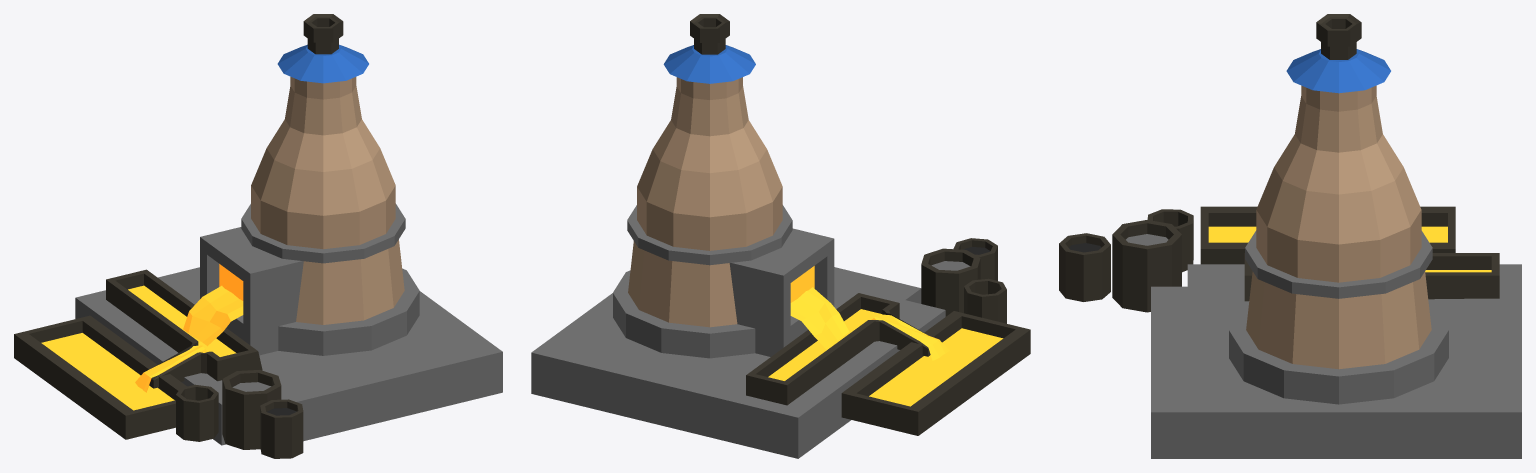
File: Smelter LvL 3.fbx
The picture shows the model from 3 angles, left to right: view 1: azimuth 30°, elevation 25°; view 2: azimuth 150°, elevation 25°; view 3: azimuth 270°, elevation 25°; orthographic projection. The views are drawn at different scales.
Parts seen in each view (by area): view 1: Smelter.002, Team Color Obj.005; view 2: Smelter.002, Team Color Obj.005; view 3: Smelter.002, Team Color Obj.005.
Boxes of the visible parts, bbox=[...] form: Smelter.002: bbox=[14, 14, 502, 458]; Team Color Obj.005: bbox=[277, 44, 368, 83]; Smelter.002: bbox=[531, 14, 1030, 458]; Team Color Obj.005: bbox=[663, 45, 755, 83]; Smelter.002: bbox=[1059, 14, 1521, 458]; Team Color Obj.005: bbox=[1286, 49, 1390, 93].
Bounding box in the file's own units: 181 × 163 × 178.
